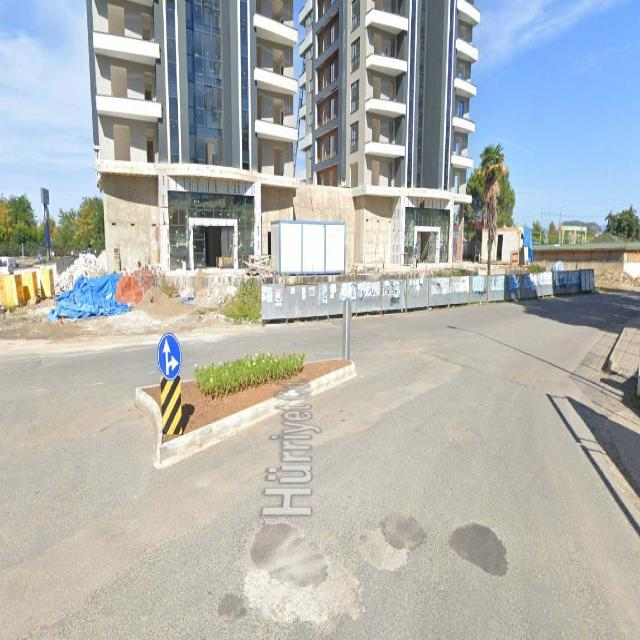ilerisag: (157, 333, 180, 378)
